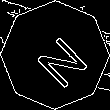N_NW: (23, 23, 87, 87)
